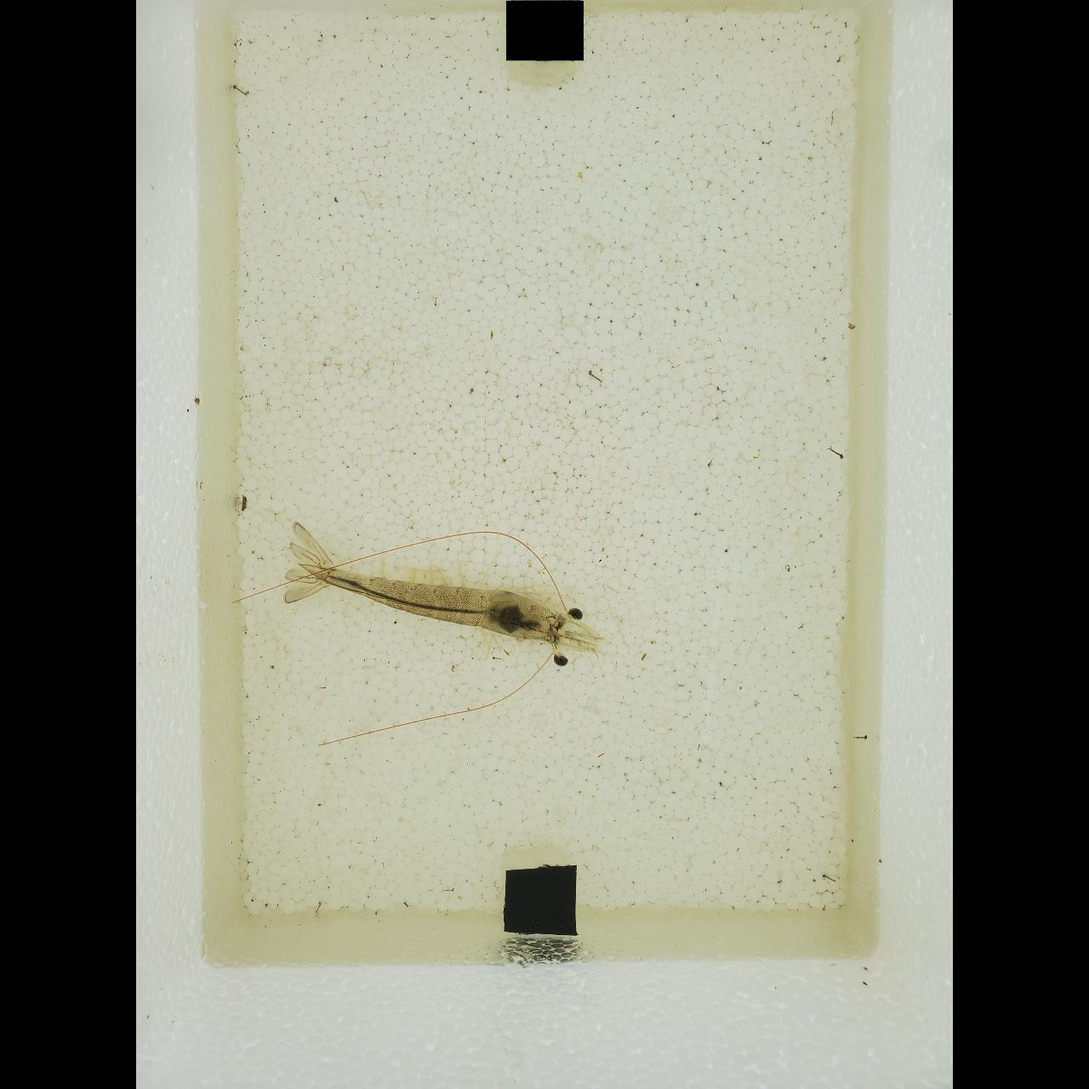box: (506, 864, 578, 937), (505, 0, 587, 62)
top_shrimp: (293, 563, 563, 641)
